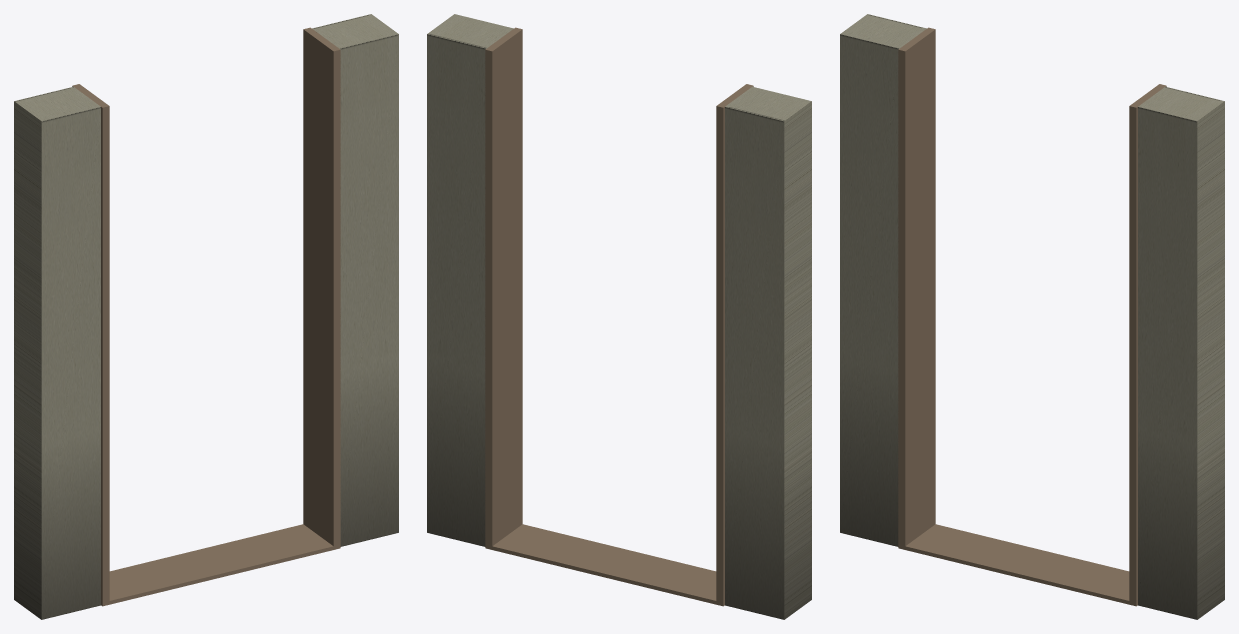
Rendered from door_straight.glb.
3 views of the same model, side by side, from view 1: azimuth 30°, elevation 25°; view 2: azimuth 150°, elevation 25°; view 3: azimuth 330°, elevation 25° (orthographic).
Visible parts, largest first — view 1: door_straight-col; view 2: door_straight-col; view 3: door_straight-col.
Boxes of the visible parts, x1,y1,x2,y2 form: door_straight-col: (14, 14, 398, 619); door_straight-col: (427, 14, 811, 619); door_straight-col: (840, 14, 1224, 619).
Size of the model in its own units: 1.5 by 2 by 0.22.
2 materials, 1 textured.
